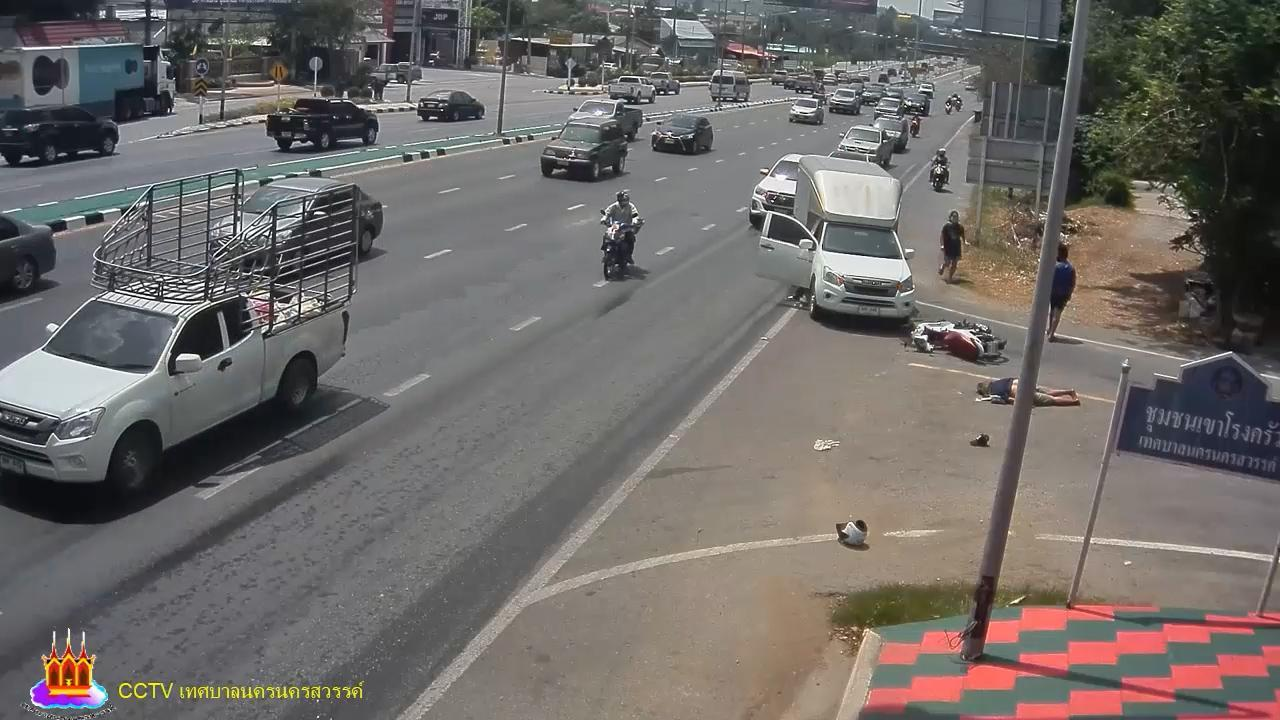accident: (975, 375, 1079, 409)
